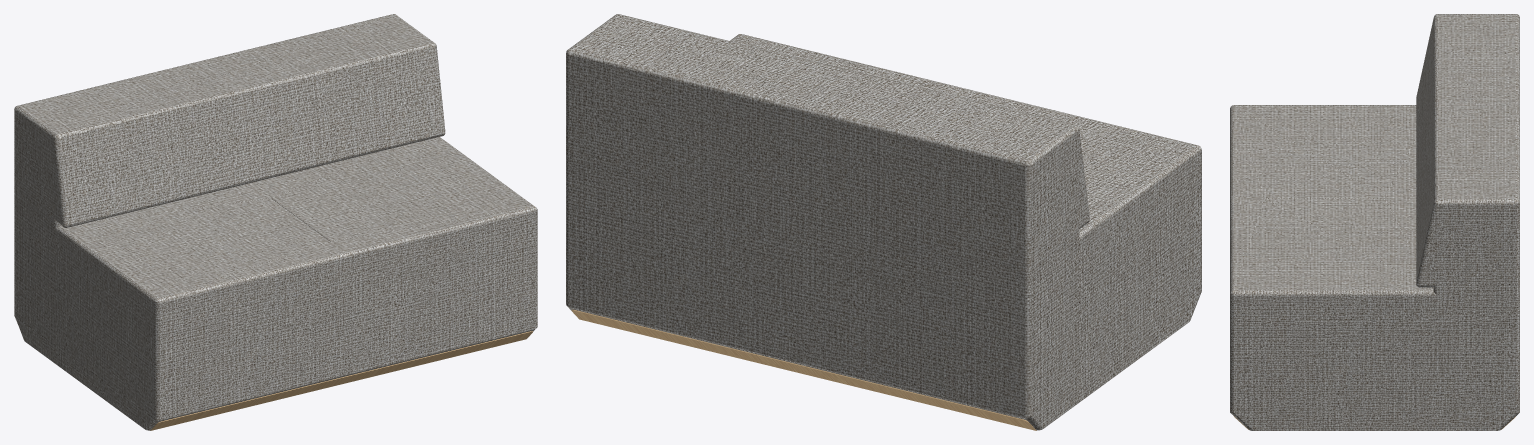
The picture shows the model from 3 angles, left to right: view 1: azimuth 30°, elevation 25°; view 2: azimuth 150°, elevation 25°; view 3: azimuth 270°, elevation 25°; orthographic projection. The views are drawn at different scales.
Visible parts, largest first — view 1: 2, 5; view 2: 2, 4; view 3: 2.
Boxes of the visible parts, left/top/right/bottom form: 2: left=14, top=14, right=537, bottom=430; 5: left=150, top=331, right=532, bottom=430; 2: left=566, top=14, right=1201, bottom=430; 4: left=571, top=309, right=1036, bottom=430; 2: left=1230, top=14, right=1519, bottom=430.
Size of the model in its own units: 1.2 by 0.6937 by 0.78.
Materials: 3 (2 with a texture image).
